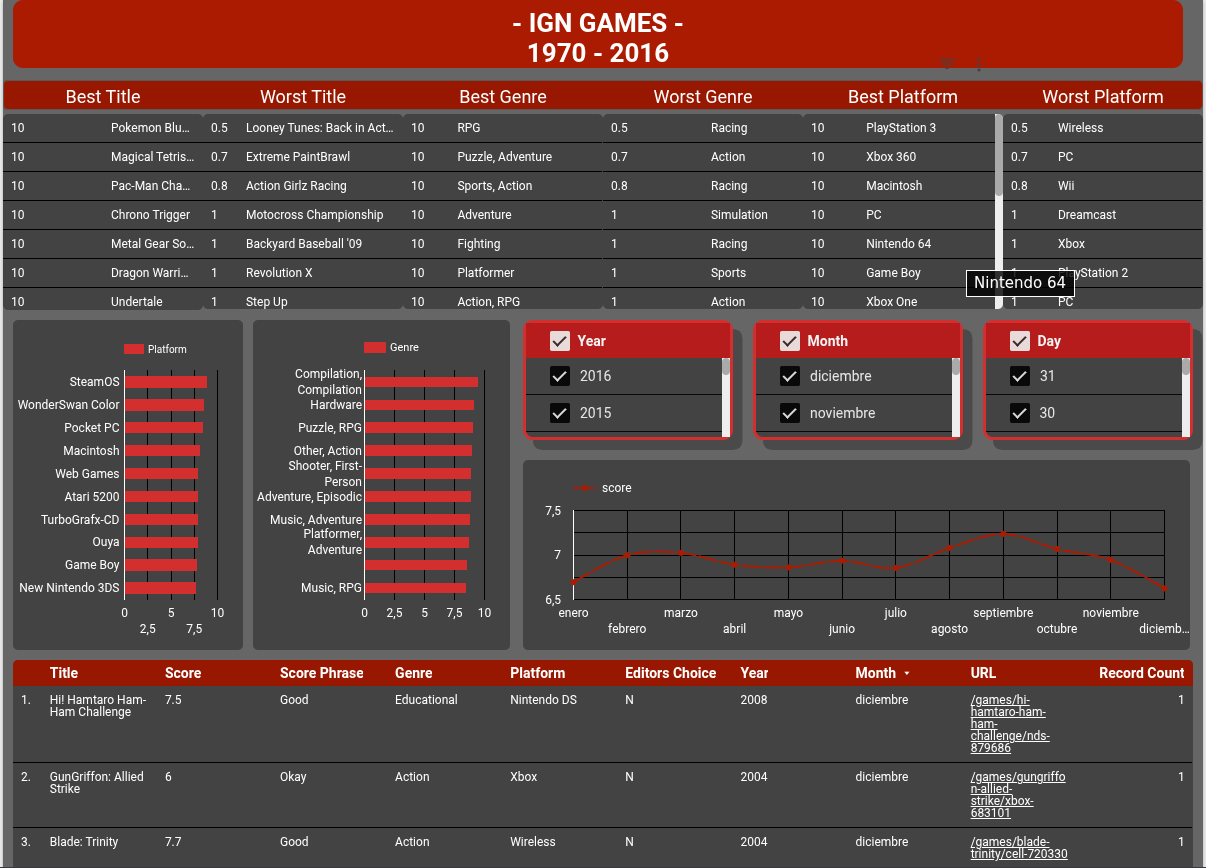

Layout of this report page (visuals, bound fields, positions):
{"tool":"powerbi","page":{"name":"Page 1","canvas":[1280,720],"ordinal":0},"visuals":[{"type":"tableEx","fields":{"Values":["public games.title","public games.score","public games.score_phrase","public games.genre","public games.platform","public games.editors_choice","public games.release_year","public months.month_e","public games.release_day","public games.url"]},"box":[0,97.3,1273.2,191.6],"z":0},{"type":"textbox","box":[0,0,1280,89],"z":1000},{"type":"advancedSlicerVisual","title":"Month","fields":{"Values":["public months.month_e"]},"box":[784.9,297.6,243.2,115.7],"z":2000},{"type":"advancedSlicerVisual","title":"Year","fields":{"Values":["public games.release_year"]},"box":[541.8,296.7,243,116.7],"z":3000},{"type":"card","title":"Best Title","fields":{"Values":["Min(public games.title)"]},"box":[0,586.5,215,132.3],"z":4000},{"type":"card","title":"Worst Title","fields":{"Values":["Min(public games.title)"]},"box":[215,586.5,213,133.3],"z":5000},{"type":"card","title":"Best Genre","fields":{"Values":["Min(public games.genre)"]},"box":[428,586.5,213,133.3],"z":6000},{"type":"card","title":"Worst Genre","fields":{"Values":["Min(public games.genre)"]},"box":[641,587.5,213,132.3],"z":7000},{"type":"card","title":"Best Platform","fields":{"Values":["Min(public games.platform)"]},"box":[854,587.5,213,131.3],"z":8000},{"type":"card","title":"Worst Platform","fields":{"Values":["Min(public games.platform)"]},"box":[1067,587.5,213,131.3],"z":9000},{"type":"barChart","title":"Score By Platform","fields":{"Category":["public games.platform"],"Y":["Avg(public games.score)"]},"box":[0,296.7,263.6,282.1],"z":10000},{"type":"barChart","title":"Score By Genre","fields":{"Y":["Avg(public games.score)"],"Category":["public games.genre"]},"box":[271.4,296.7,263.6,282.1],"z":11000},{"type":"advancedSlicerVisual","title":"Day","fields":{"Values":["public games.release_day"]},"box":[1028.1,297.6,243.2,115.7],"z":12000},{"type":"lineChart","title":"Score by Months","fields":{"Y":["Sum(public games.score)"],"Category":["public months.month_e"]},"box":[541.8,413.4,731.4,166.3],"z":13000}]}

Visuals, with their boxes on the page's 1280x720 design canvas (x1, y1, x2, y2). These are canvas units, not pixel positions in the 1206x868 screenshot, which may show the page scaled, cropped or inside an application window:
tableEx - public games.title x public games.score: [0,97,1273,289]
textbox: [0,0,1280,89]
"Month" advancedSlicerVisual: [785,298,1028,413]
"Year" advancedSlicerVisual: [542,297,785,413]
"Best Title" card: [0,586,215,719]
"Worst Title" card: [215,586,428,720]
"Best Genre" card: [428,586,641,720]
"Worst Genre" card: [641,588,854,720]
"Best Platform" card: [854,588,1067,719]
"Worst Platform" card: [1067,588,1280,719]
"Score By Platform" barChart: [0,297,264,579]
"Score By Genre" barChart: [271,297,535,579]
"Day" advancedSlicerVisual: [1028,298,1271,413]
"Score by Months" lineChart: [542,413,1273,580]
